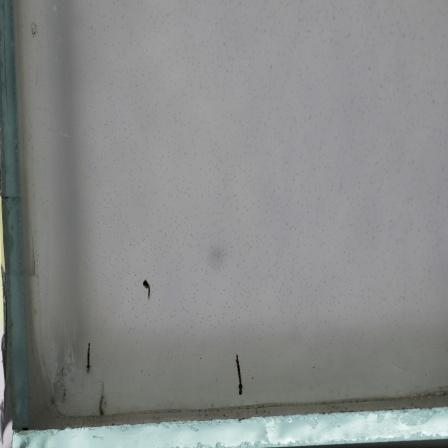Jentik-Nyamuk: (233, 351, 246, 399), (82, 341, 94, 377), (139, 278, 154, 303), (95, 393, 106, 418)
